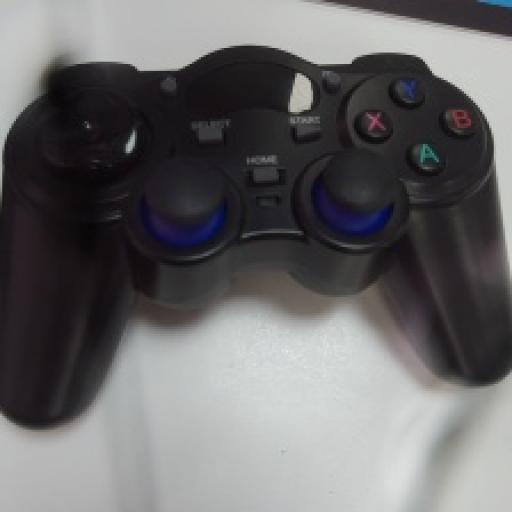game pad: (0, 46, 510, 423)
